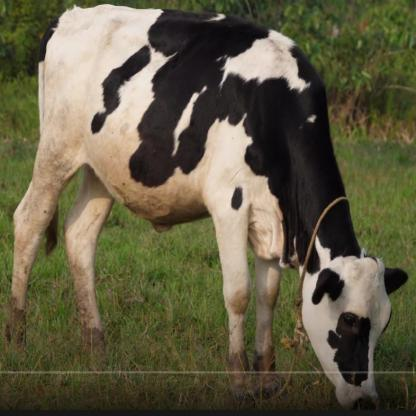cow: (4, 4, 409, 408)
